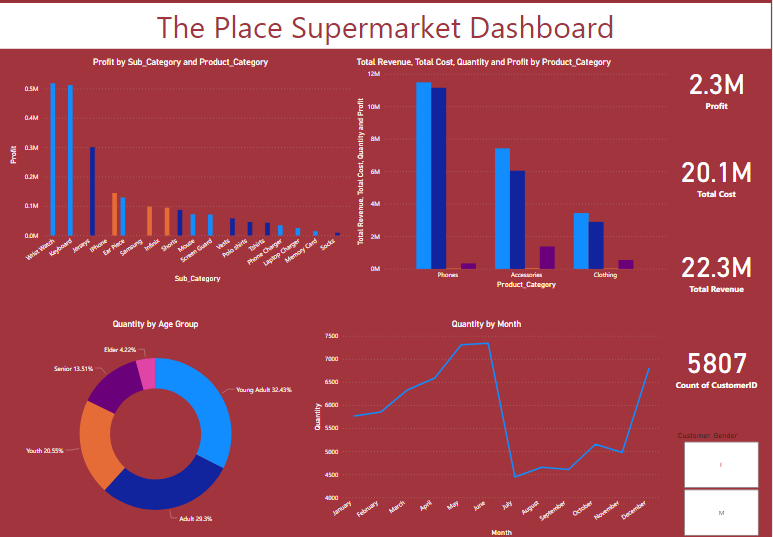

The dashboard page shown, as its layout file describes it:
{"tool":"powerbi","page":{"name":"Page 1","canvas":[1500,1050],"ordinal":0},"visuals":[{"type":"clusteredColumnChart","fields":{"Y":["Sum(Fact_Order_Table.Profit)"],"Category":["Dim_Product_Table.Sub_Category"],"Series":["Dim_Product_Table.Product_Category"]},"box":[13.6,112.8,674.7,443.3],"z":0},{"type":"donutChart","fields":{"Y":["Sum(Fact_Order_Table.Quantity)"],"Category":["Dim_Customer_Table.Age Group"]},"box":[0,622.2,604.7,427.8],"z":1000},{"type":"clusteredColumnChart","fields":{"Category":["Dim_Product_Table.Product_Category"],"Y":["Sum(Fact_Order_Table.Total Revenue)","Sum(Fact_Order_Table.Total Cost)","Sum(Fact_Order_Table.Quantity)","Sum(Fact_Order_Table.Profit)"]},"box":[688.3,112.8,616.4,455],"z":2000},{"type":"card","fields":{"Values":["Sum(Fact_Order_Table.Profit)"]},"box":[1287.2,320.8,211.9,112.8],"z":3000},{"type":"card","fields":{"Values":["Sum(Fact_Order_Table.Total Cost)"]},"box":[1287.2,433.6,211.9,122.5],"z":4000},{"type":"card","fields":{"Values":["Sum(Fact_Order_Table.Total Revenue)"]},"box":[1287.2,556.1,211.9,132.2],"z":5000},{"type":"card","fields":{"Values":["CountNonNull(Dim_Customer_Table.CustomerID)"]},"box":[1287.2,688.3,211.9,128.3],"z":6000},{"type":"slicer","fields":{"Values":["Dim_Customer_Table.Customer_Gender"]},"box":[1304.7,836.1,194.4,213.9],"z":7000},{"type":"lineChart","fields":{"Category":["Fact_Order_Table.Date.Variation.Date Hierarchy.Month"],"Y":["Sum(Fact_Order_Table.Quantity)"]},"box":[604.7,622.2,682.5,427.8],"z":8000},{"type":"textbox","box":[0,7.8,1499.2,89.4],"z":9000}]}

Visuals, with their boxes in screenshot pixels (x1, y1, x2, y2), scaled from the page's 1500x1050 canvas onto the 773x537 screenshot:
clusteredColumnChart - Sum(Fact_Order_Table.Profit) x Dim_Product_Table.Sub_Category: x1=7 y1=58 x2=355 y2=284
donutChart - Sum(Fact_Order_Table.Quantity) x Dim_Customer_Table.Age Group: x1=0 y1=318 x2=312 y2=536
clusteredColumnChart - Dim_Product_Table.Product_Category x Sum(Fact_Order_Table.Total Revenue): x1=355 y1=58 x2=672 y2=290
card - Sum(Fact_Order_Table.Profit): x1=663 y1=164 x2=772 y2=222
card - Sum(Fact_Order_Table.Total Cost): x1=663 y1=222 x2=772 y2=284
card - Sum(Fact_Order_Table.Total Revenue): x1=663 y1=284 x2=772 y2=352
card - CountNonNull(Dim_Customer_Table.CustomerID): x1=663 y1=352 x2=772 y2=418
slicer - Dim_Customer_Table.Customer_Gender: x1=672 y1=428 x2=772 y2=536
lineChart - Fact_Order_Table.Date.Variation.Date Hierarchy.Month x Sum(Fact_Order_Table.Quantity): x1=312 y1=318 x2=663 y2=536
textbox: x1=0 y1=4 x2=772 y2=50
